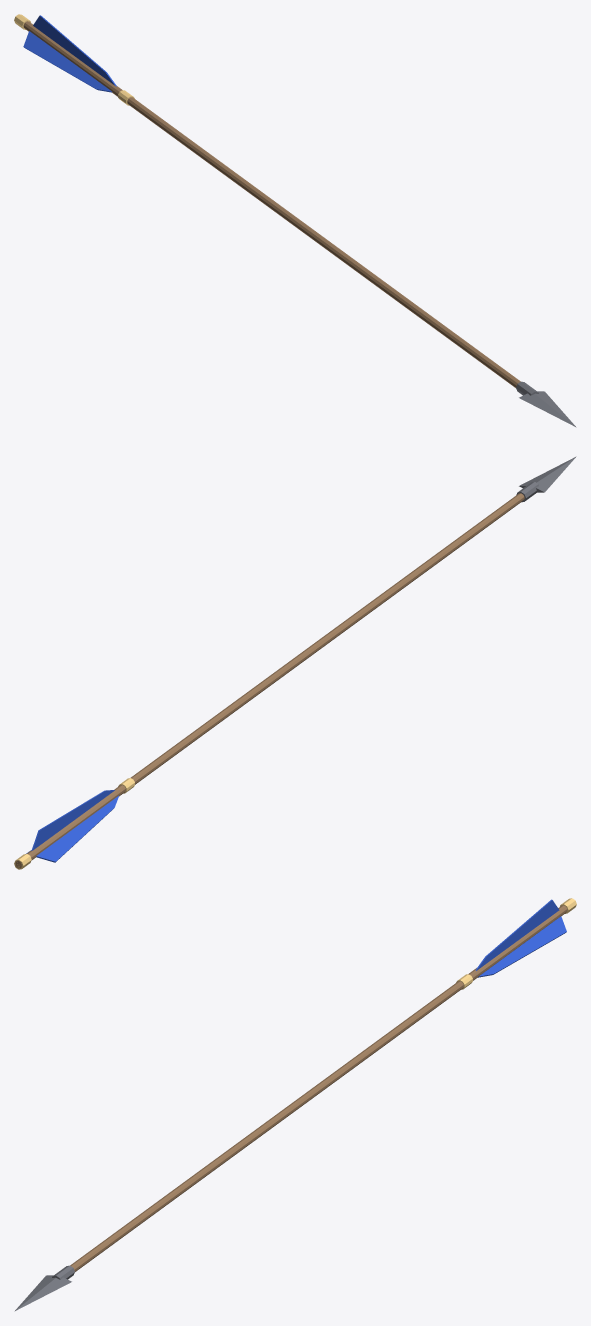
Rendered from ROWAN_arrow_blue_fletch_meshy.fbx.
3 renders of one model, top to bottom at view 1: azimuth 30°, elevation 25°; view 2: azimuth 150°, elevation 25°; view 3: azimuth 330°, elevation 25°, orthographic.
Visible parts, largest first — view 1: ROWAN_arrow_blue_fletch; view 2: ROWAN_arrow_blue_fletch; view 3: ROWAN_arrow_blue_fletch.
Part boxes in pixels (box(x1,y1,x2,y2)): ROWAN_arrow_blue_fletch: box(14, 14, 576, 427); ROWAN_arrow_blue_fletch: box(14, 456, 576, 869); ROWAN_arrow_blue_fletch: box(14, 898, 576, 1311).
Bounding box in the file's own units: 0.0348 × 0.0307 × 1.06.
